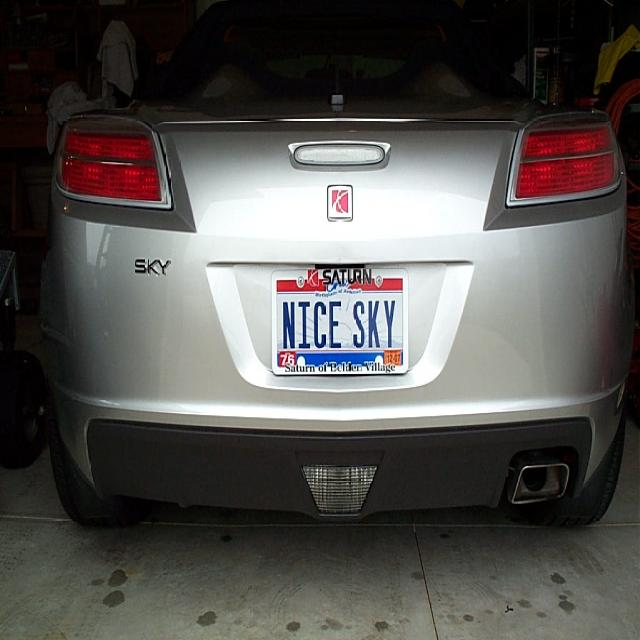Number-Plate: (274, 287, 401, 371)
